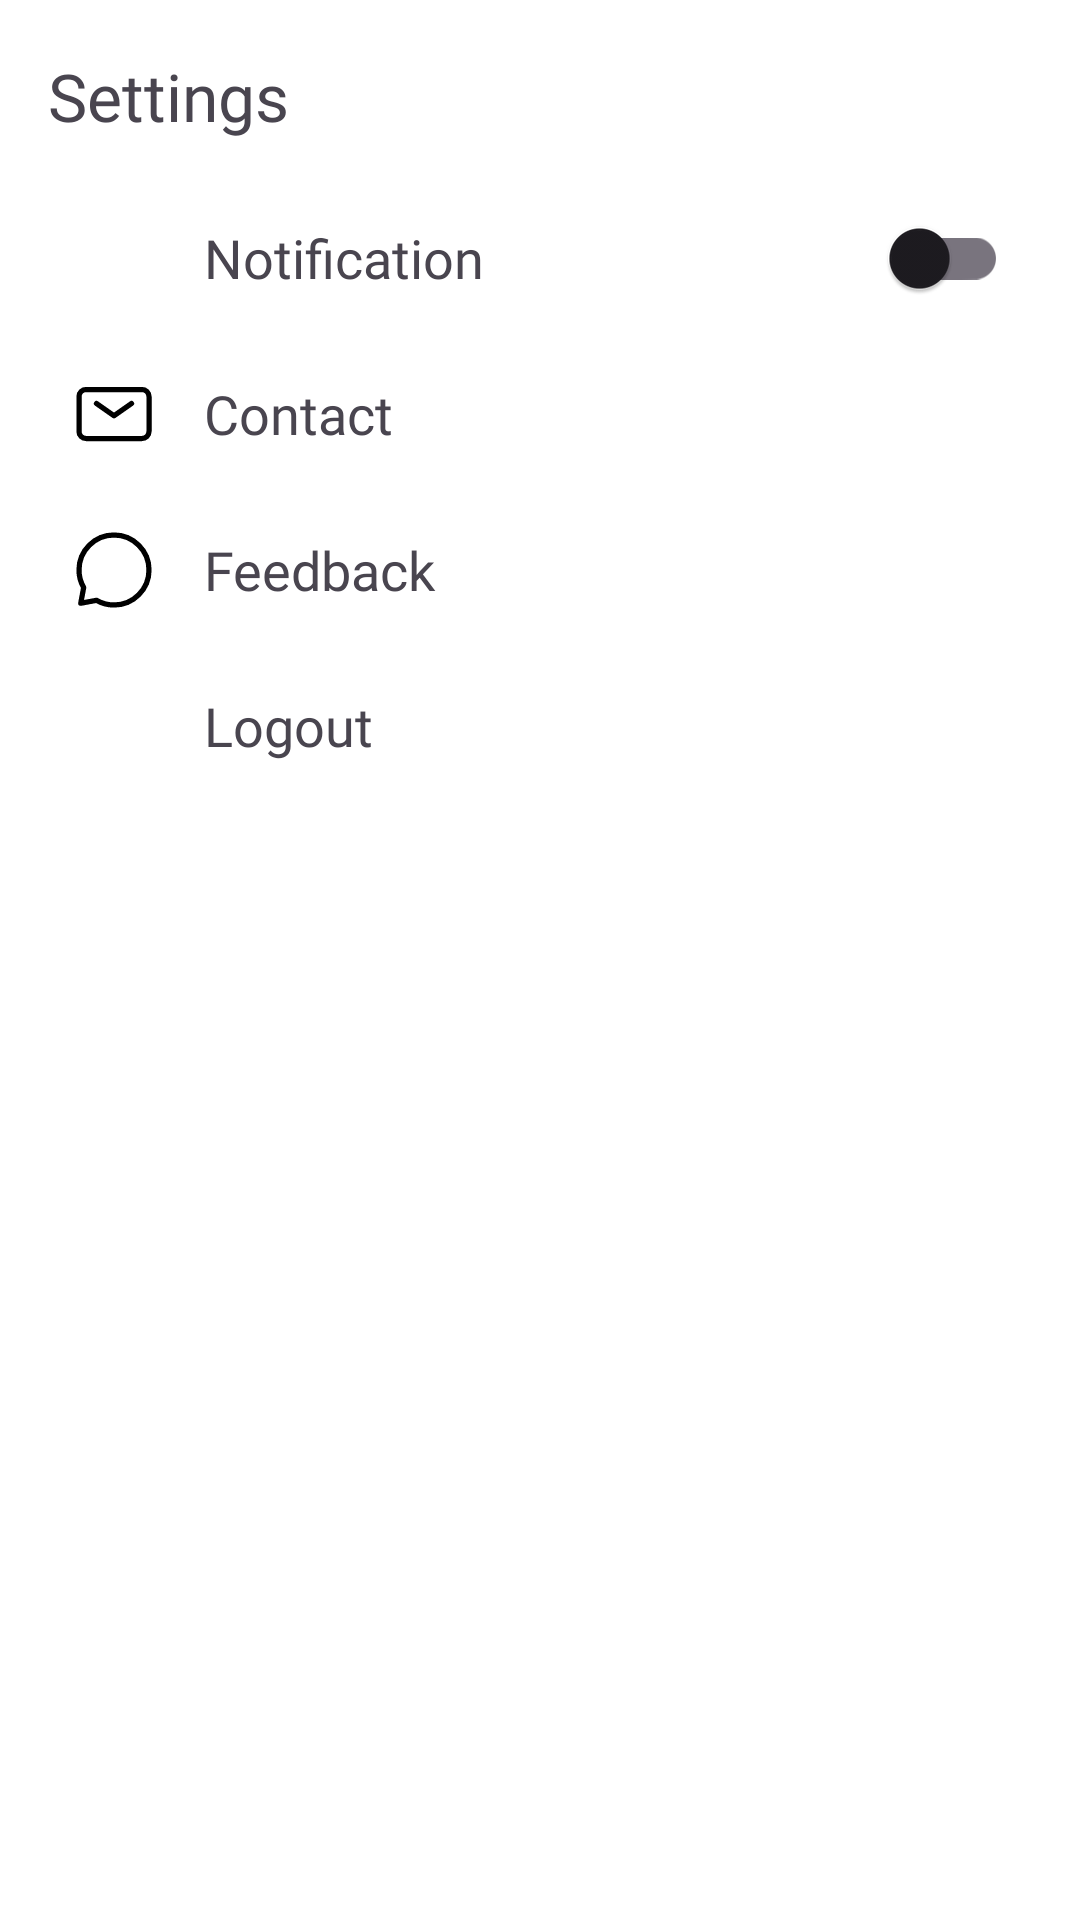

Icon click points for this 1080×1920 phone screenshot, format [x,y]:
chat: [114,570]
mail: [114,414]
